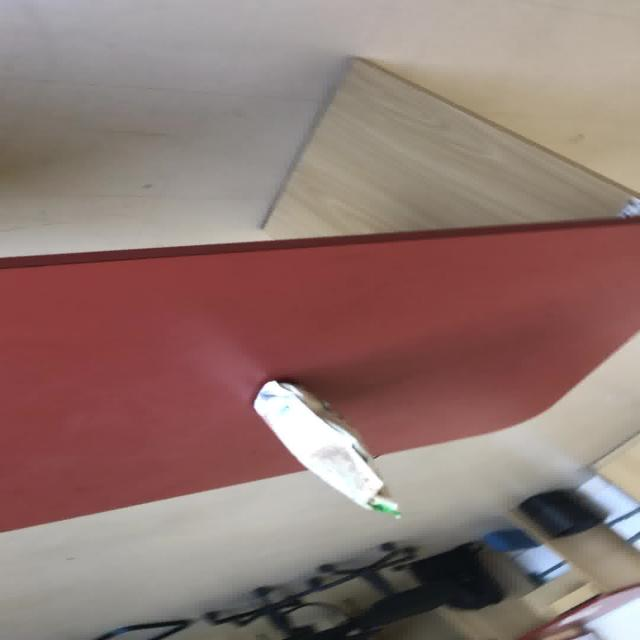corn flakes: (259, 54, 636, 240), (250, 378, 401, 518)
